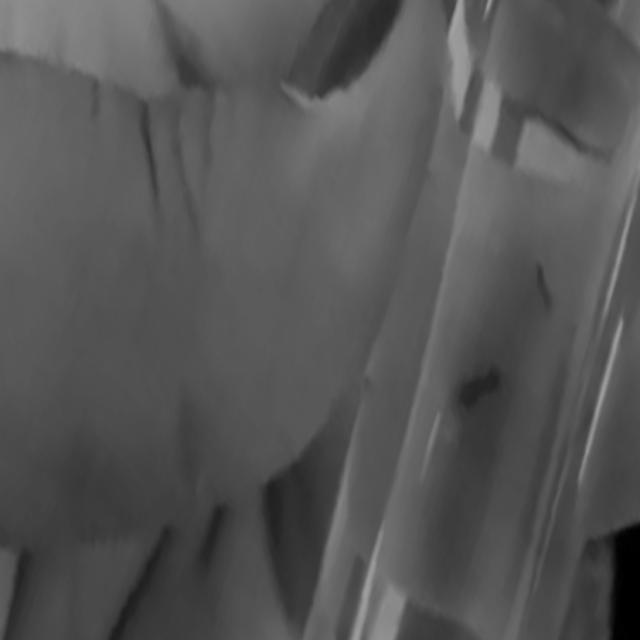larvas: (450, 371, 502, 409), (539, 256, 553, 311)
